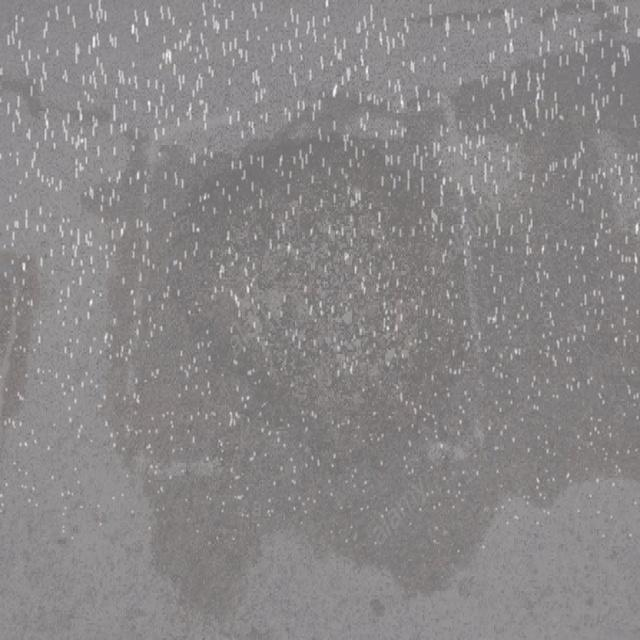Pothole: (73, 41, 640, 605)
